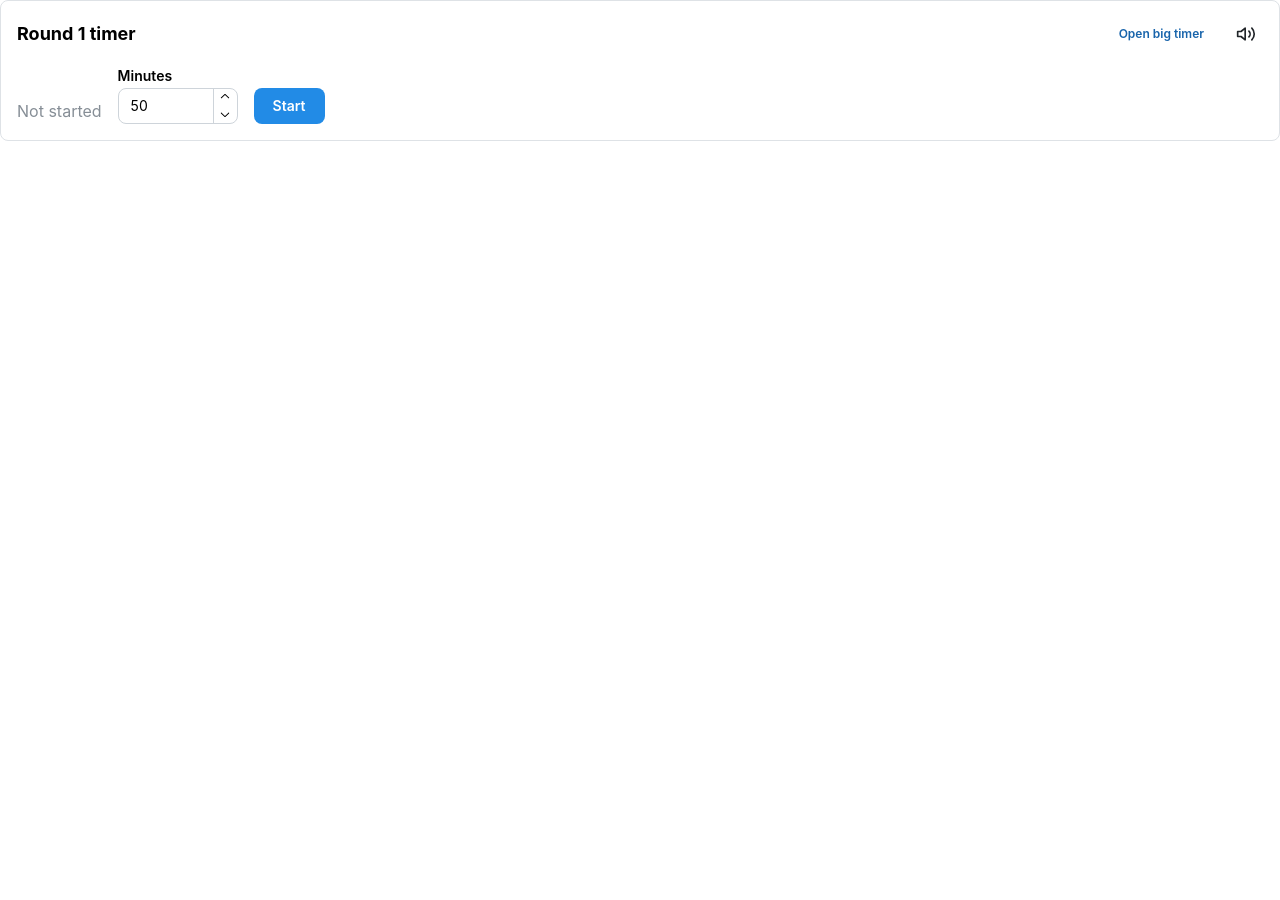
Test: RoundTimer time-up alert › shows the notification but does not beep when muted, and remembers the mute
The image size is (1280, 900).
Click the button named "Mute timer sound" at (1246, 34), box [1229,17,1263,51]
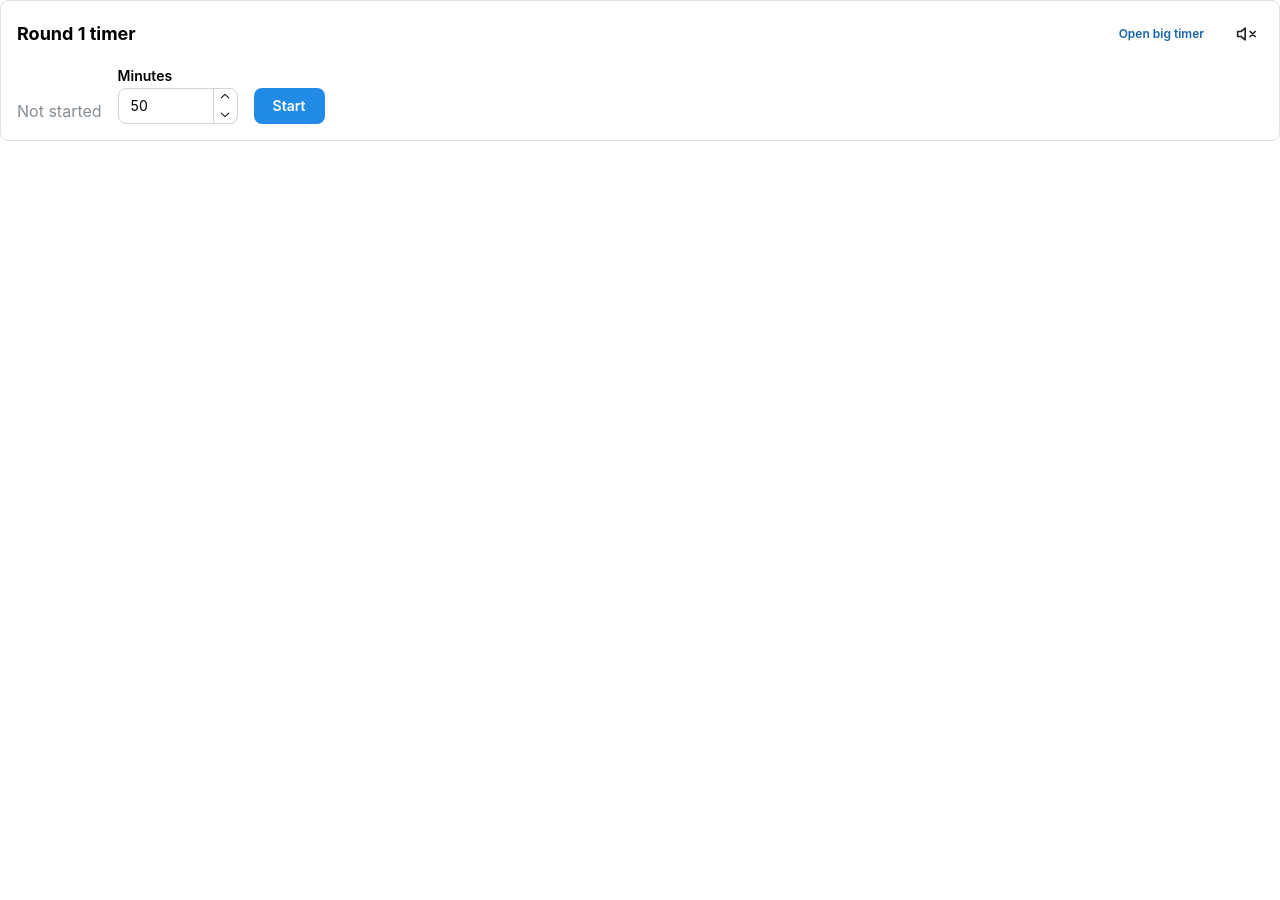
Now the button named "Unmute timer sound" is shown, box [1229,17,1263,51]
Replace the text in the field labelled "Minutes" with "1" at (178, 106), box [118,88,238,124]
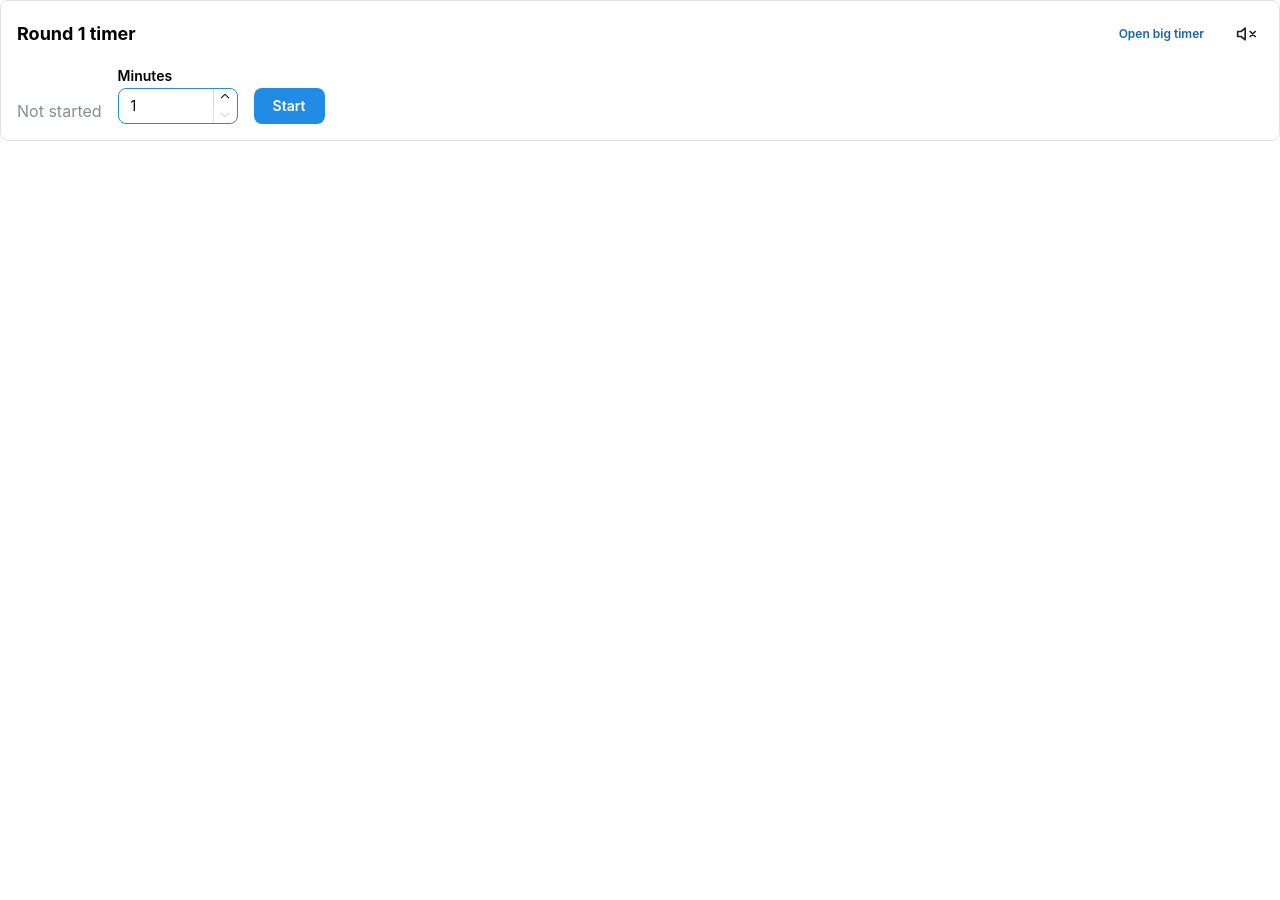
Click the button "Start" at (289, 106), box [254,88,324,124]
Wait 61000 ms
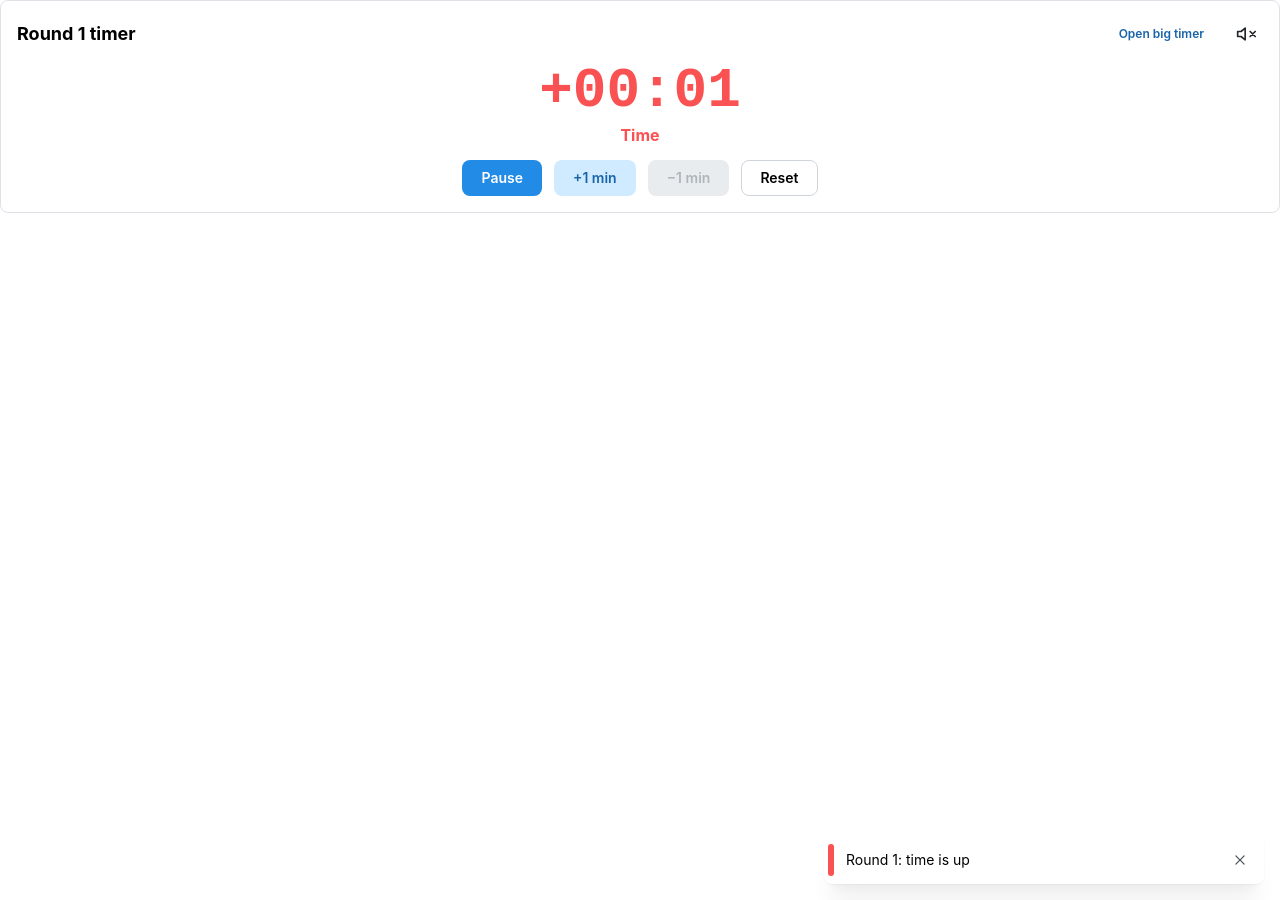
Now the text "Round 1: time is up" is shown, box [846,851,970,868]
